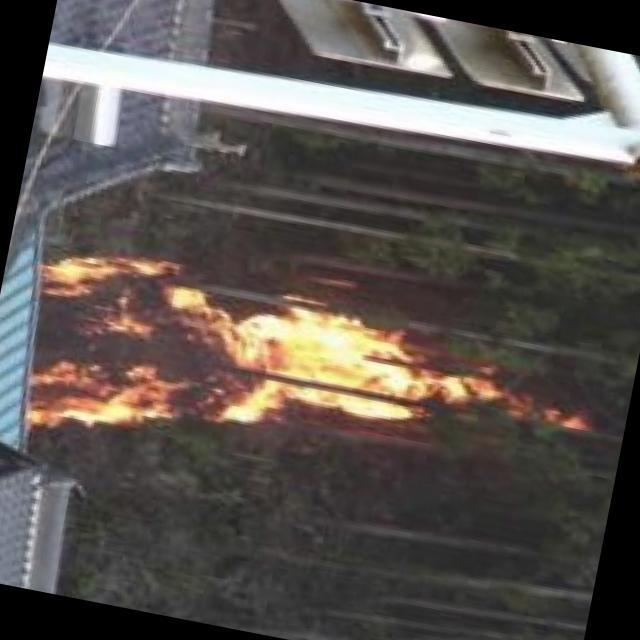Fire: (19, 237, 439, 490)
